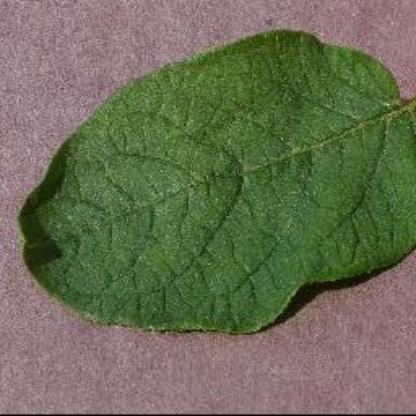Healthy-plant: (25, 26, 416, 336)
